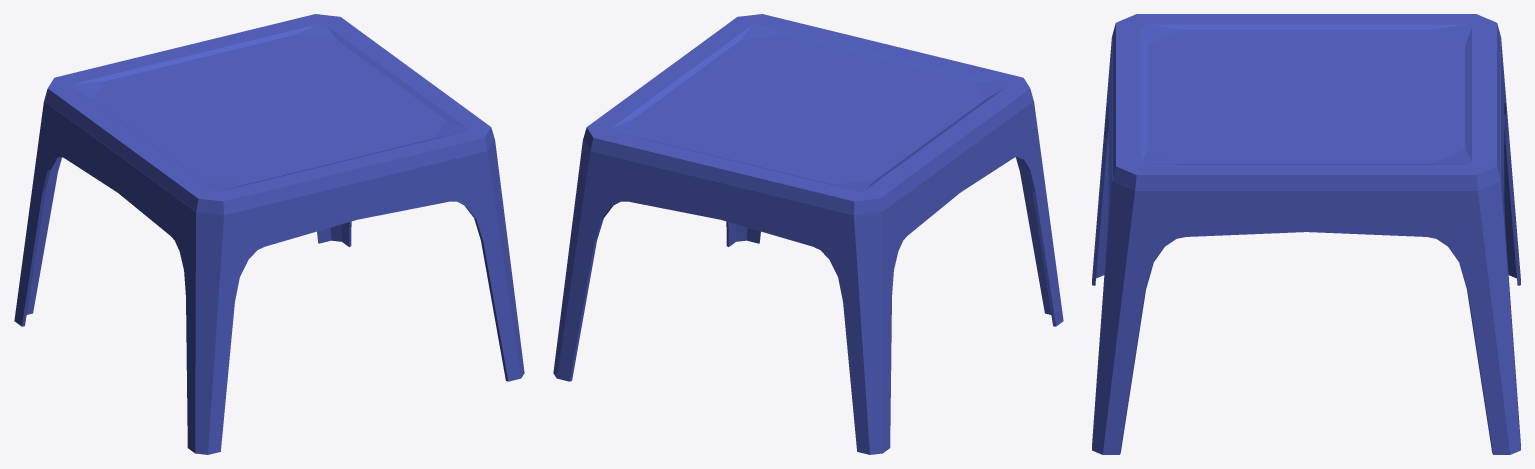
File: SM_Furniture_TableLow_Blue_01.glb
3 renders of one model, left to right at view 1: azimuth 30°, elevation 25°; view 2: azimuth 150°, elevation 25°; view 3: azimuth 270°, elevation 25°, orthographic. The views are drawn at different scales.
Visible parts, largest first — view 1: SM_Furniture_TableLow_Blue_01; view 2: SM_Furniture_TableLow_Blue_01; view 3: SM_Furniture_TableLow_Blue_01.
Boxes of the visible parts, x1,y1,x2,y2 form: SM_Furniture_TableLow_Blue_01: (14, 14, 524, 454); SM_Furniture_TableLow_Blue_01: (553, 14, 1063, 454); SM_Furniture_TableLow_Blue_01: (1092, 14, 1520, 454).
Bounding box in the file's own units: 0.648 × 0.45 × 0.648.
Materials: 1 (1 with a texture image).
